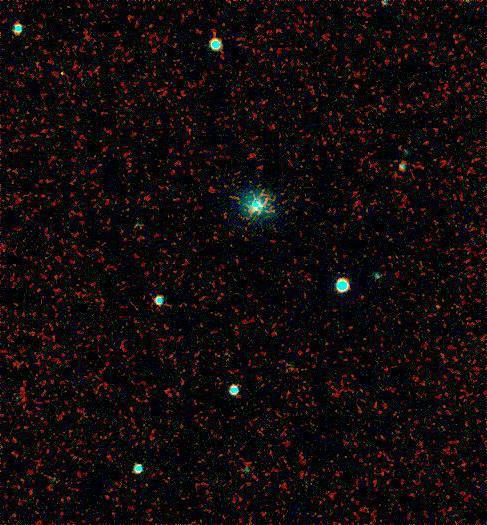star: (423, 294, 453, 324)
